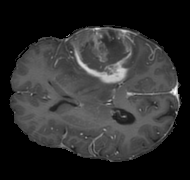Edema: (60, 28, 149, 99)
EnhancingTumors: (70, 27, 133, 82)
Necrosis: (75, 30, 129, 70)
